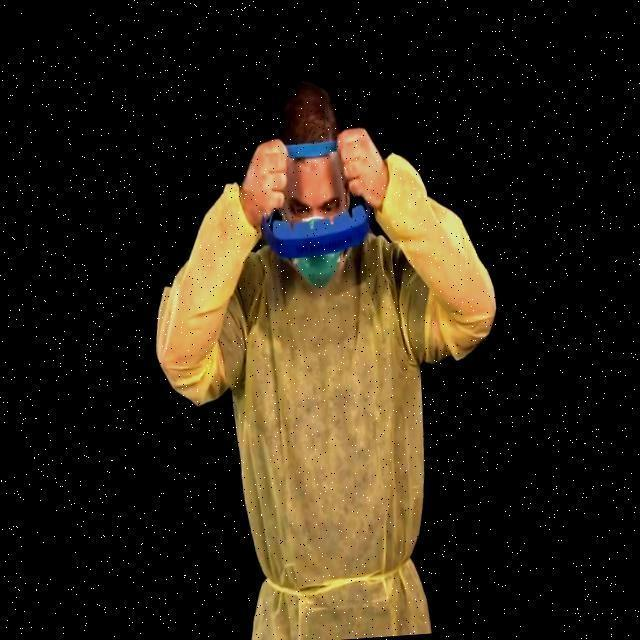no_apron: (243, 134, 291, 228), (340, 129, 387, 209)
